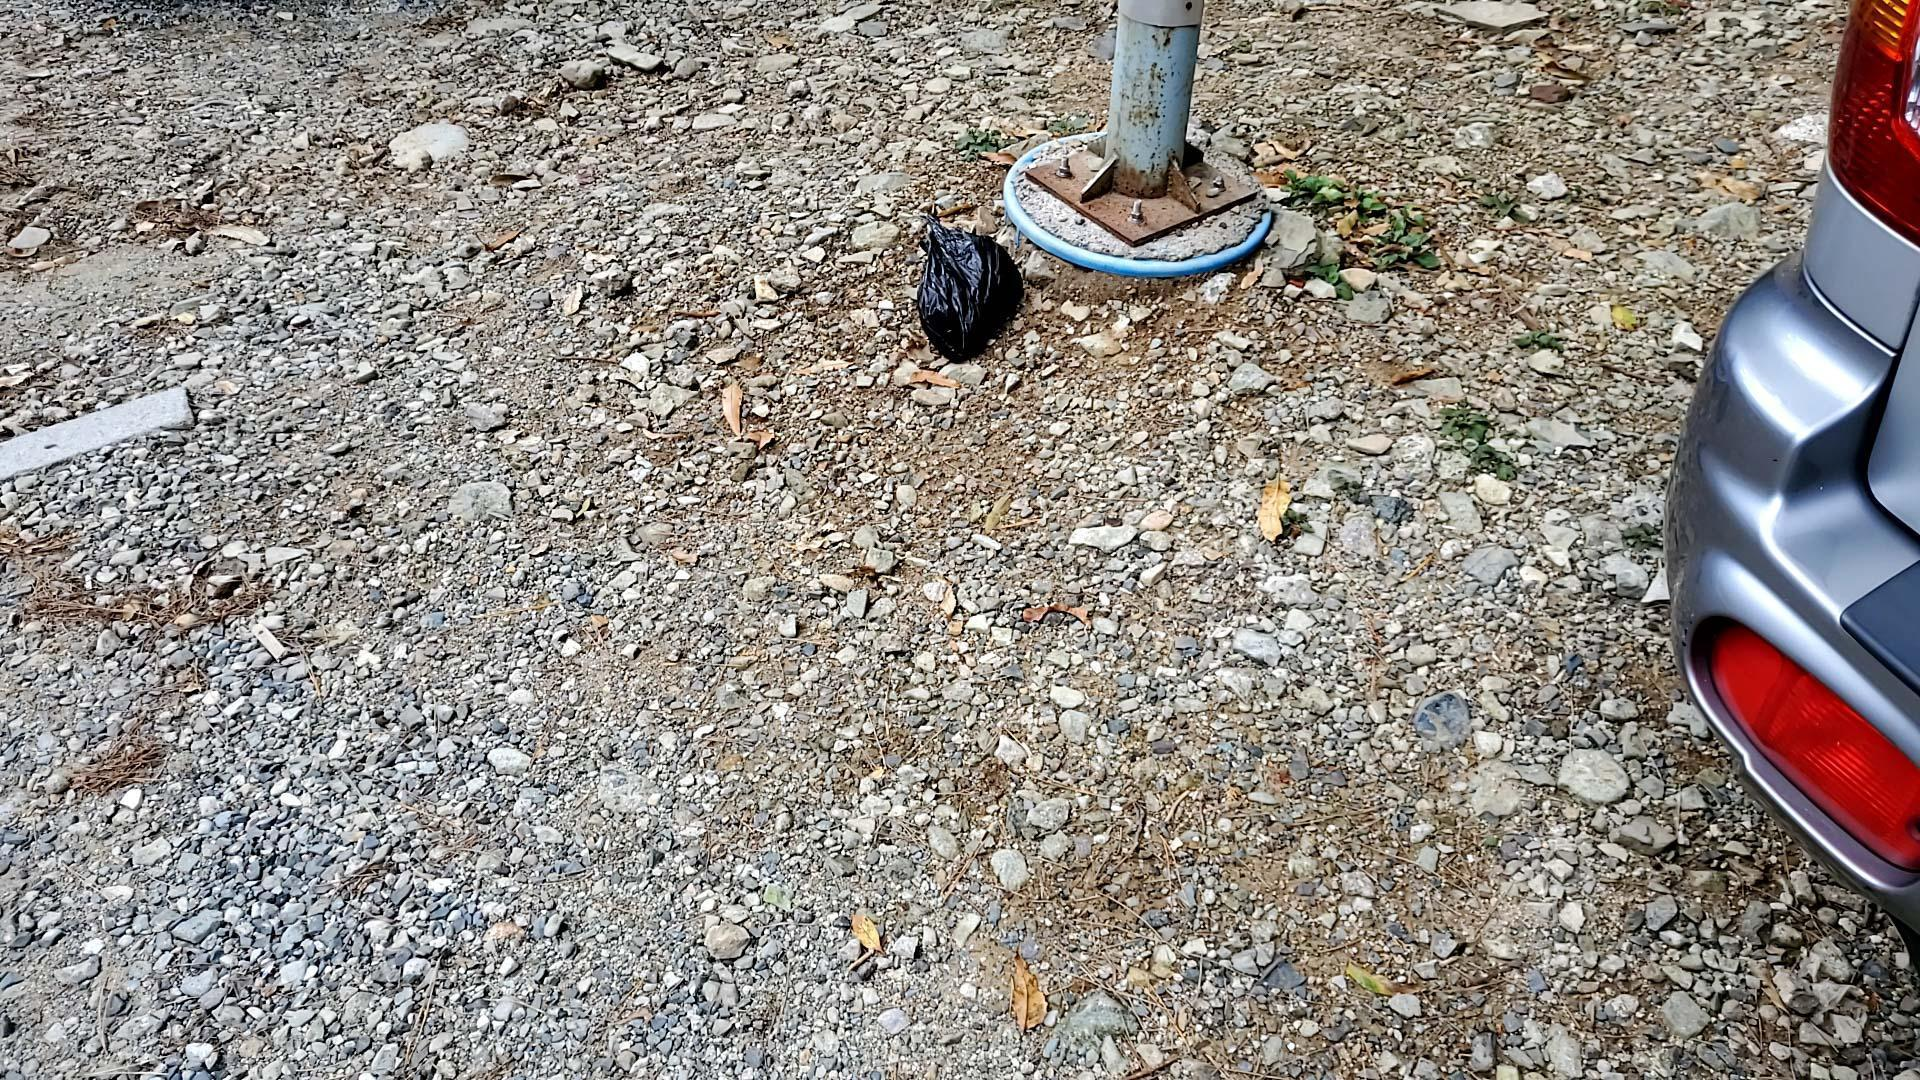black_bag: (901, 207, 1042, 371)
